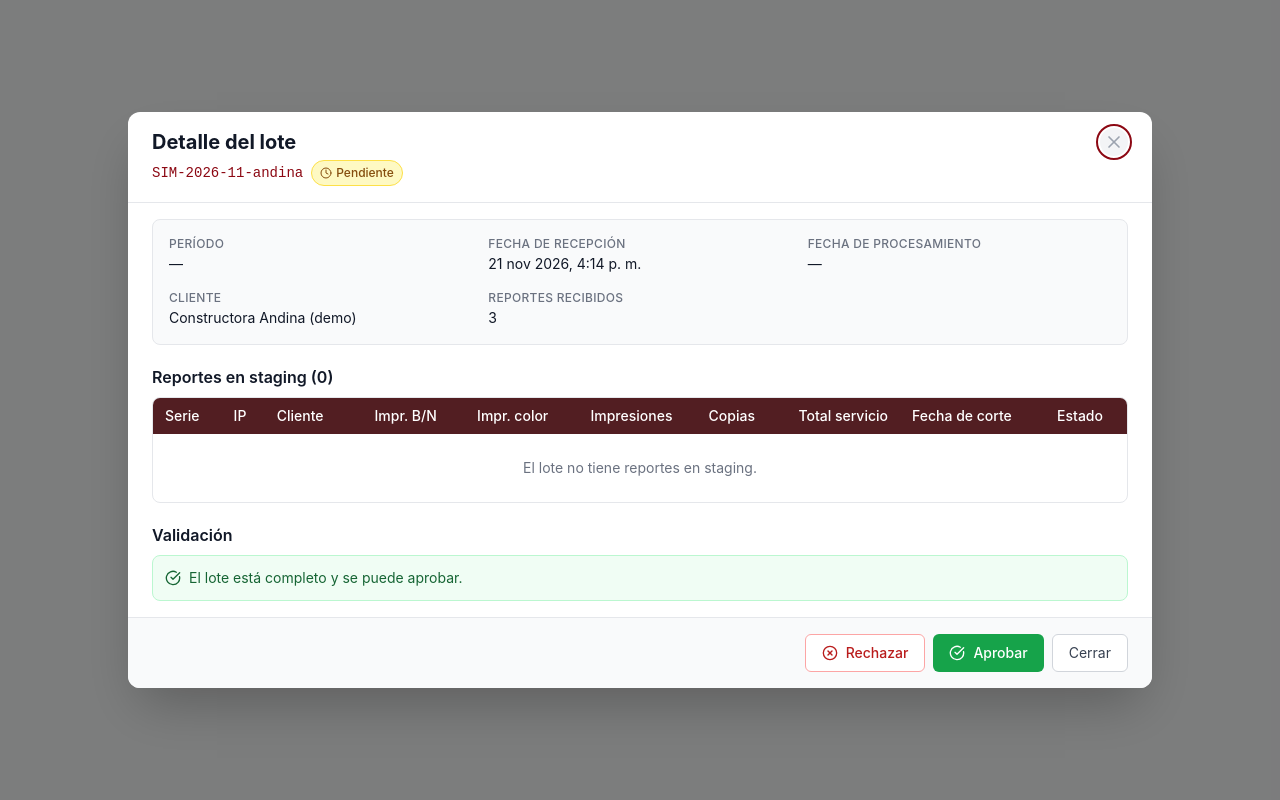
Test case: DetalleLoteModal · aprobar › un lote sin período deja elegir el mes y lo envía
This screenshot has width=1280, height=800.
Later steps or results of the test are not shown.
Click the button "Aprobar" at (989, 653), box top-left (933, 634), bottom-right (1044, 672)
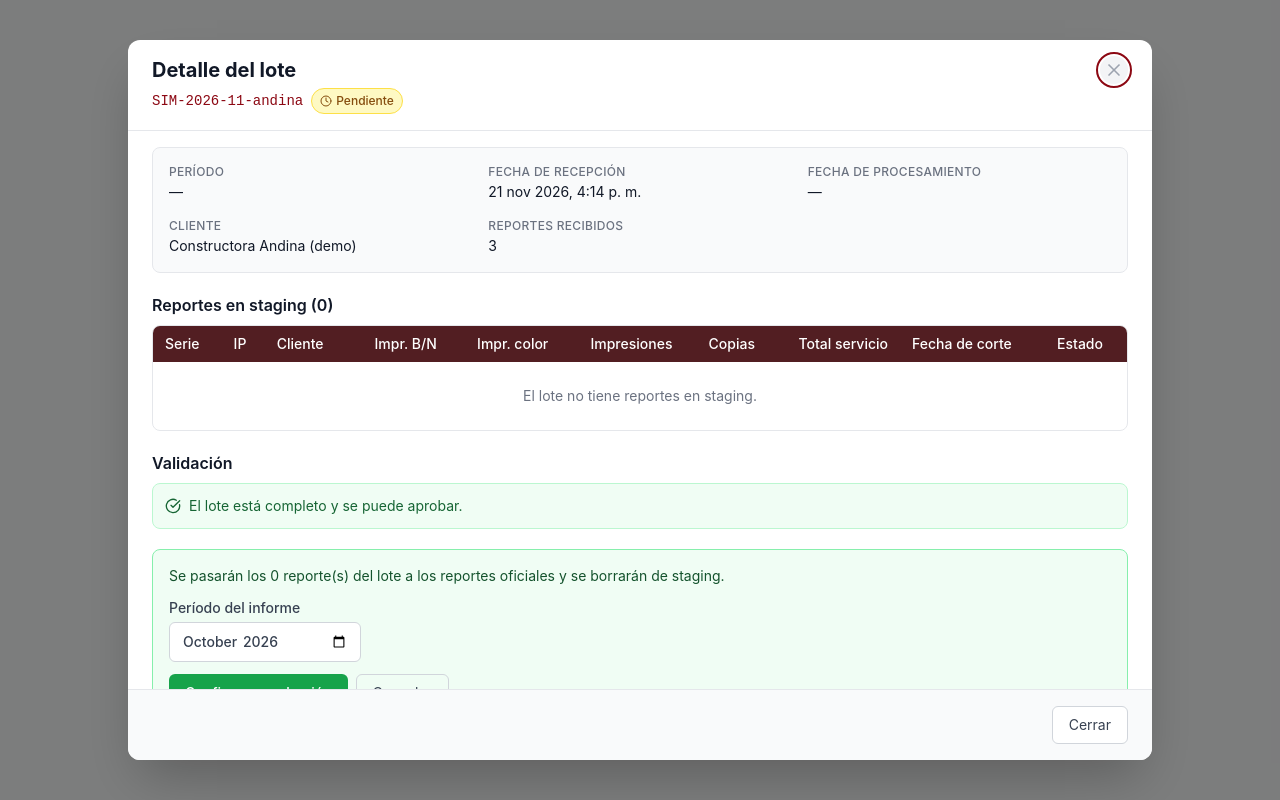
Expected: the field with test id "periodo-aprobacion" is shown, top-left (169, 622), bottom-right (361, 662)
